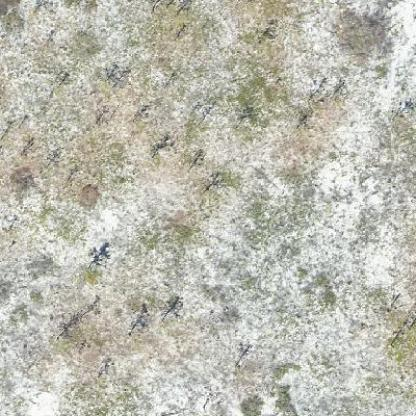tree-top: (239, 26, 259, 46), (80, 268, 99, 287)
